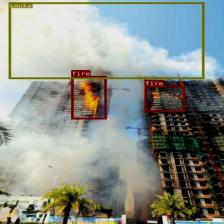fire: (71, 76, 106, 119), (144, 86, 185, 112)
smoke: (8, 2, 204, 79)
